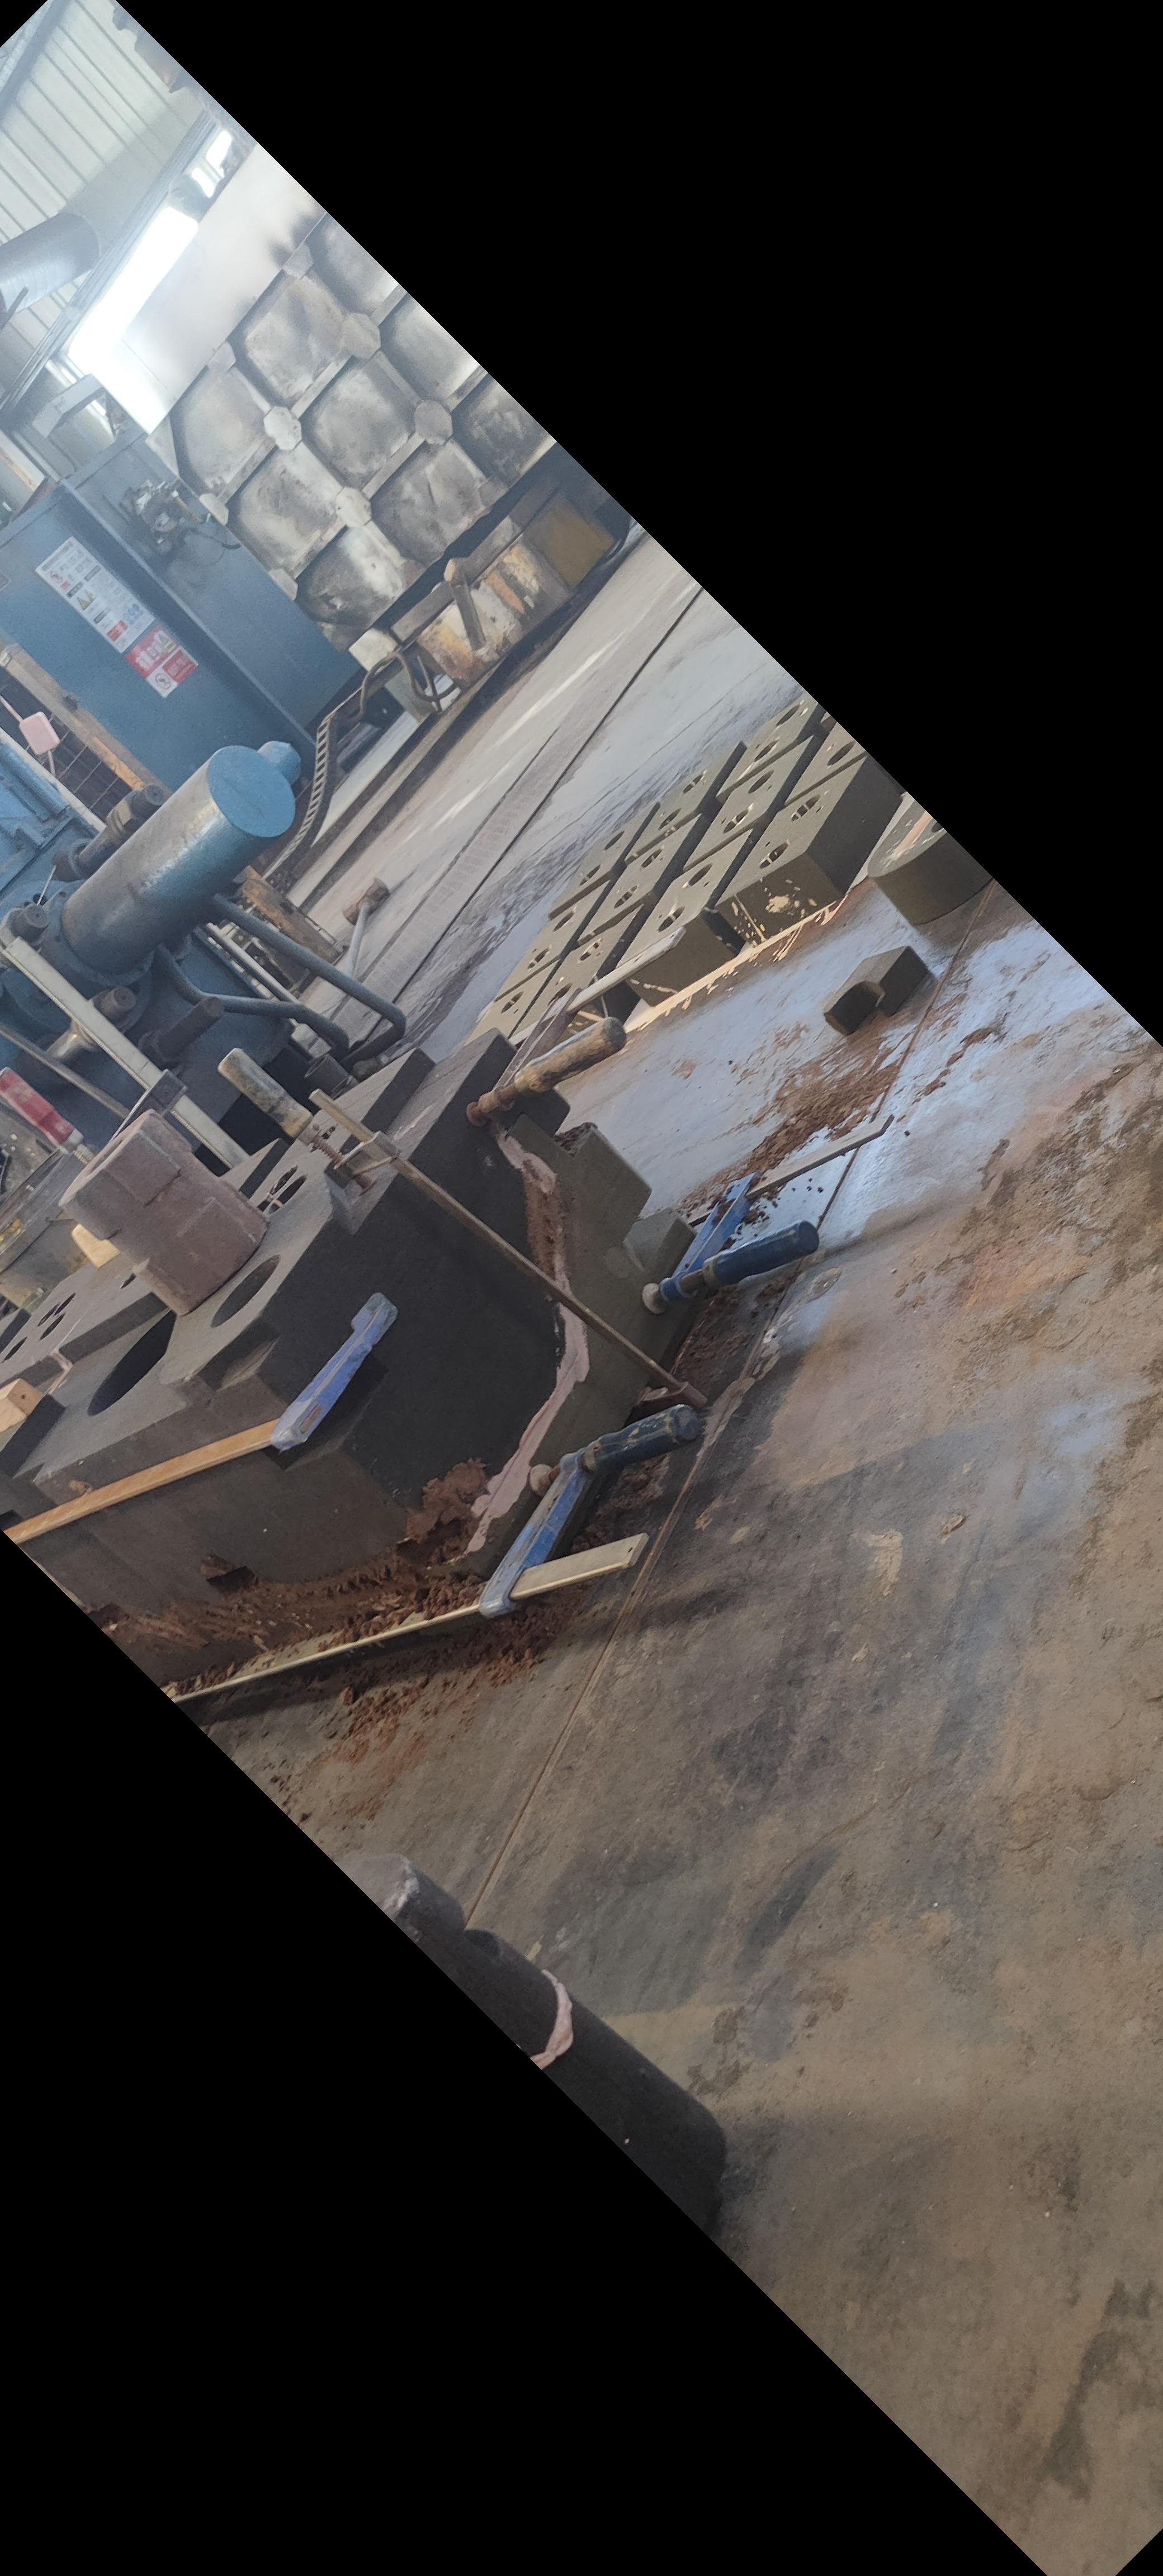pouring hole: (209, 1253, 281, 1327), (683, 862, 713, 890), (759, 841, 788, 869), (657, 905, 685, 933), (790, 794, 820, 820), (826, 741, 856, 767), (747, 769, 774, 795), (577, 938, 603, 963), (613, 885, 639, 910), (723, 808, 749, 833), (775, 703, 800, 728), (754, 739, 779, 762), (547, 984, 573, 1005), (526, 948, 549, 971), (657, 808, 682, 830), (552, 910, 575, 932), (603, 830, 624, 853), (641, 848, 664, 869), (580, 864, 601, 885), (501, 992, 522, 1012), (682, 774, 703, 794)
